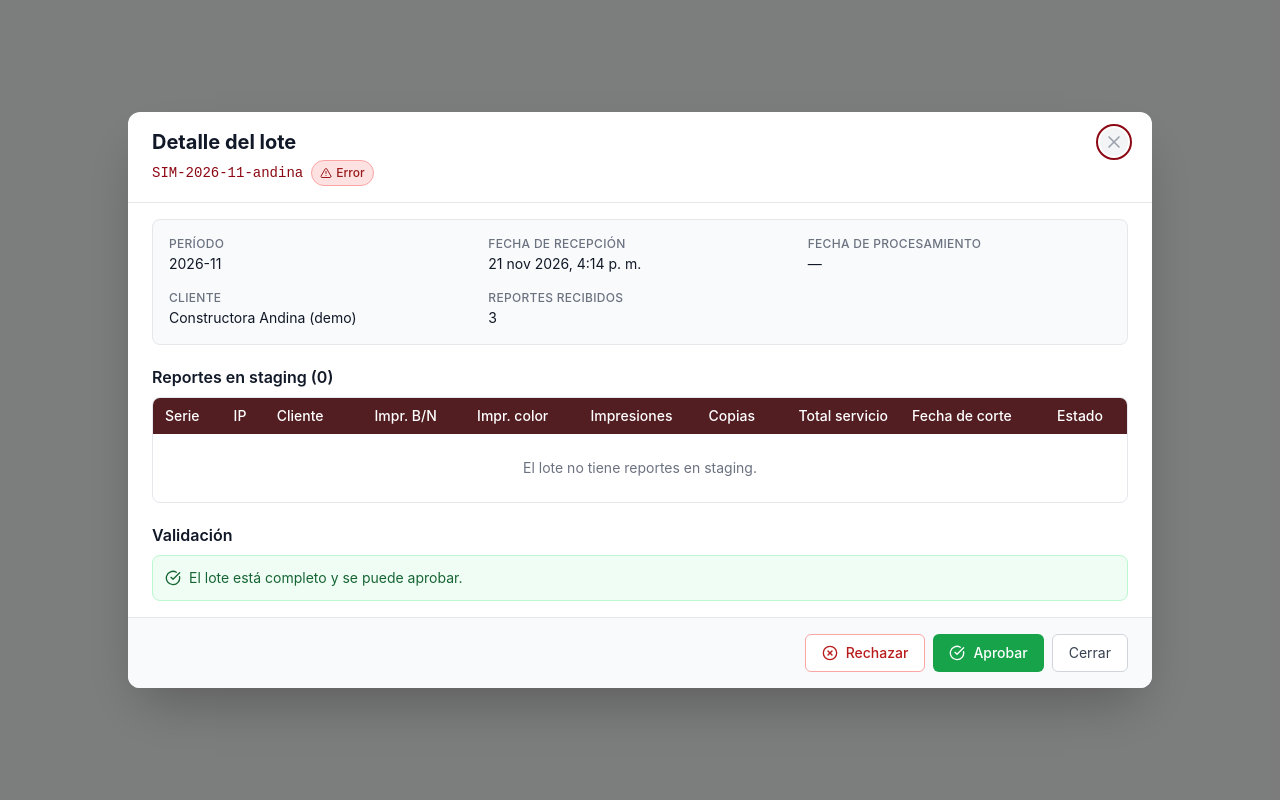
Test: DetalleLoteModal · aprobar › si no se puede aprobar (409), lleva la vista a los motivos
The width and height of the screenshot is (1280, 800).
Click the button "Aprobar". click: x=989, y=653
box: x1=933 y1=634 x2=1044 y2=672
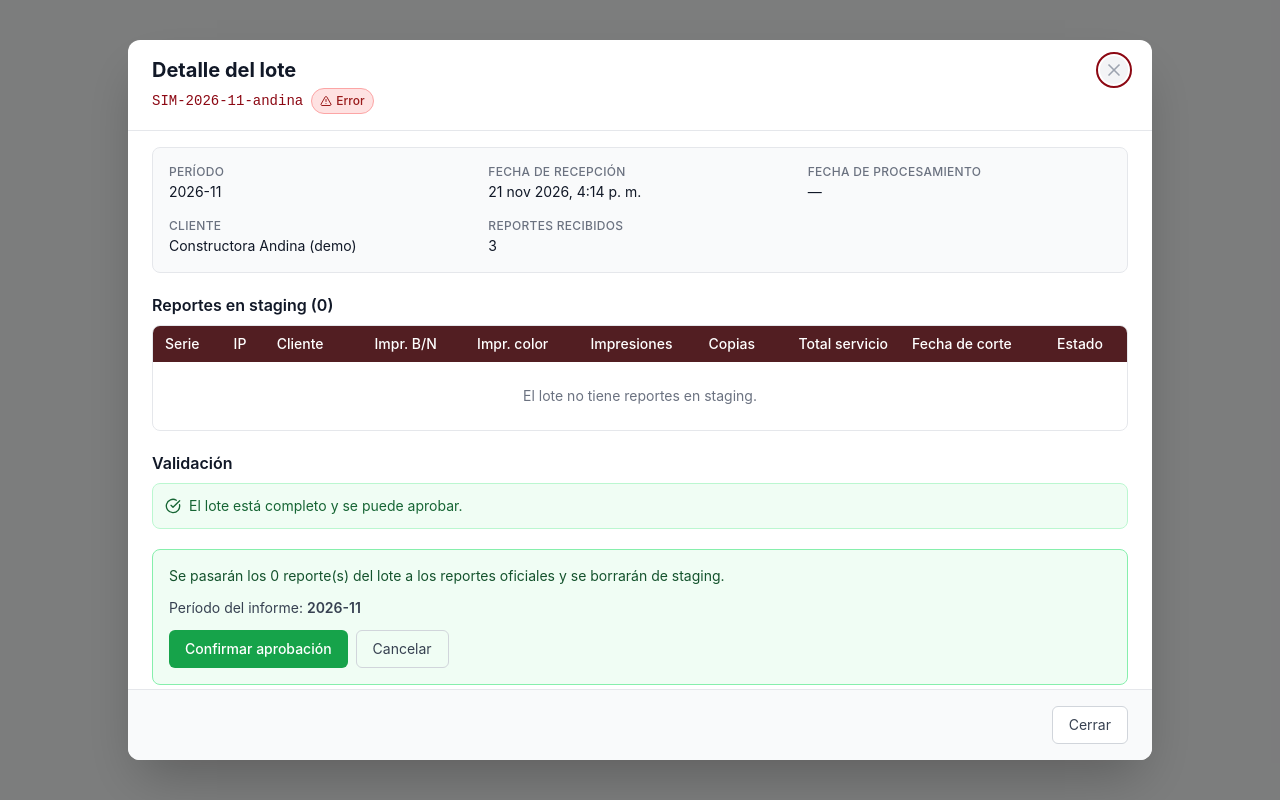
Click the button "Confirmar aprobación". click: x=258, y=649
box: x1=169 y1=630 x2=348 y2=668
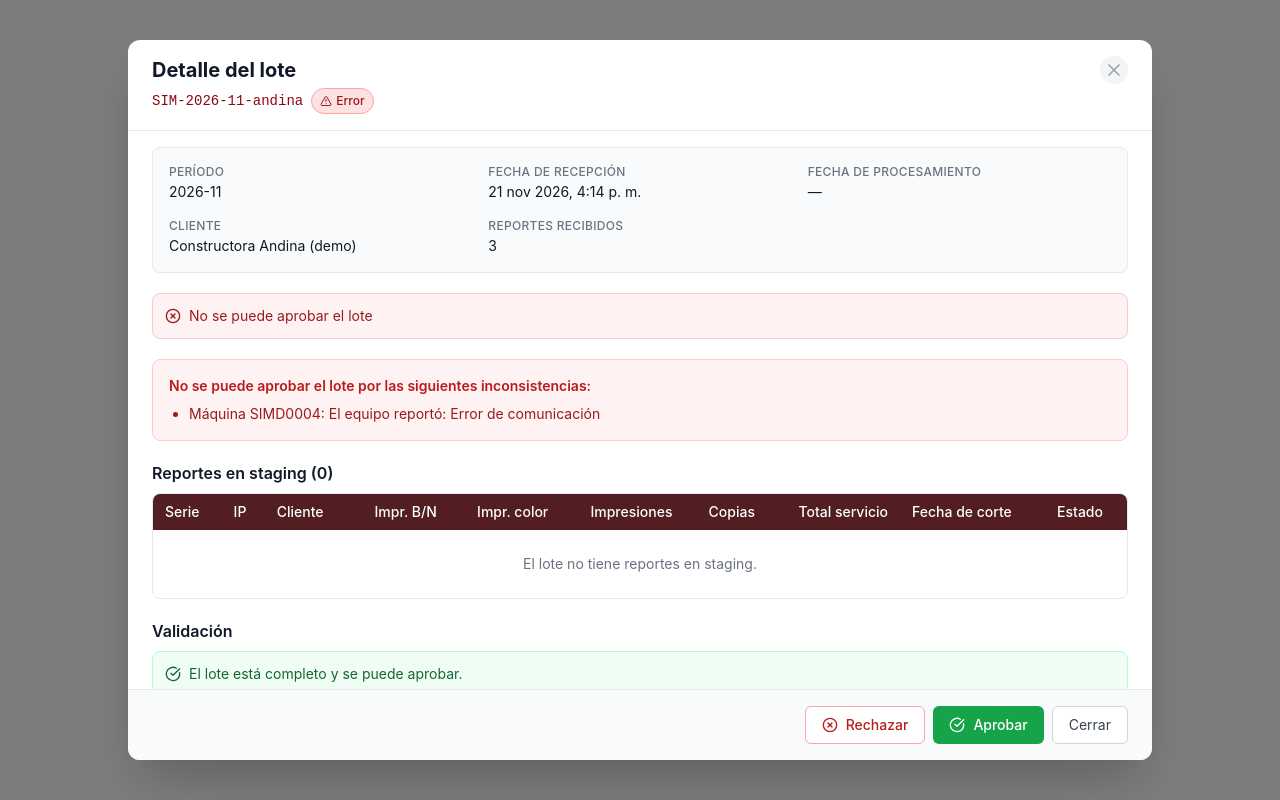
Now the element with test id "errores-aprobacion" shows "SIMD0004", box x1=189 y1=405 x2=600 y2=422
